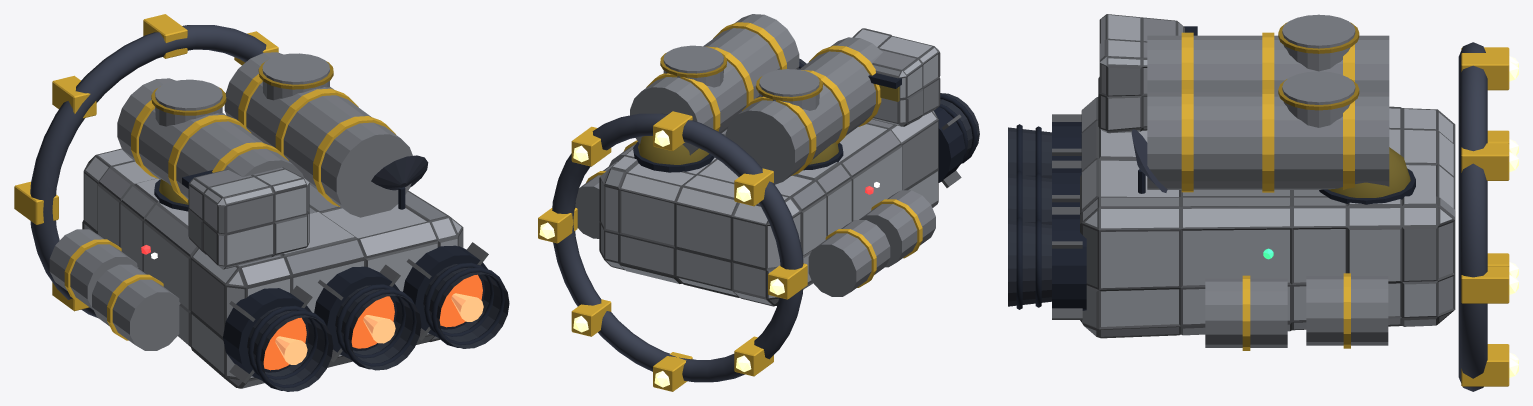
The model's file is quarry.glb.
The picture shows the model from 3 angles, left to right: view 1: azimuth 30°, elevation 25°; view 2: azimuth 150°, elevation 25°; view 3: azimuth 270°, elevation 25°; orthographic projection. The views are drawn at different scales.
Parts seen in each view (by area): view 1: quarry_mesh, radar_mesh; view 2: quarry_mesh; view 3: quarry_mesh, radar_mesh.
Boxes of the visible parts, bbox=[...] form: quarry_mesh: bbox=[14, 14, 509, 391]; radar_mesh: bbox=[371, 155, 428, 209]; quarry_mesh: bbox=[538, 14, 979, 391]; quarry_mesh: bbox=[1008, 14, 1518, 391]; radar_mesh: bbox=[1131, 129, 1167, 193].
Bounding box in the file's own units: 6.93 × 5.81 × 8.48.
